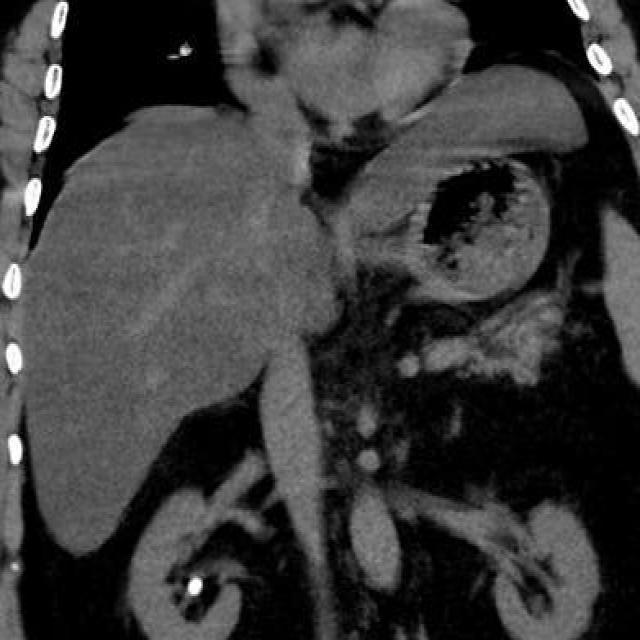Tas_Var: (180, 573, 210, 603)
